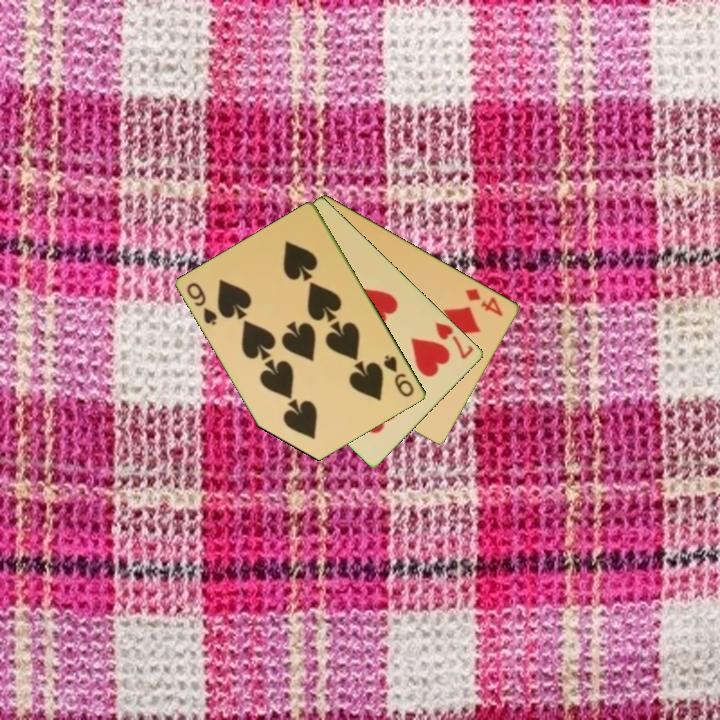4d: (462, 285, 506, 319)
7h: (432, 318, 477, 362)
9s: (380, 351, 418, 400), (183, 279, 221, 328)
